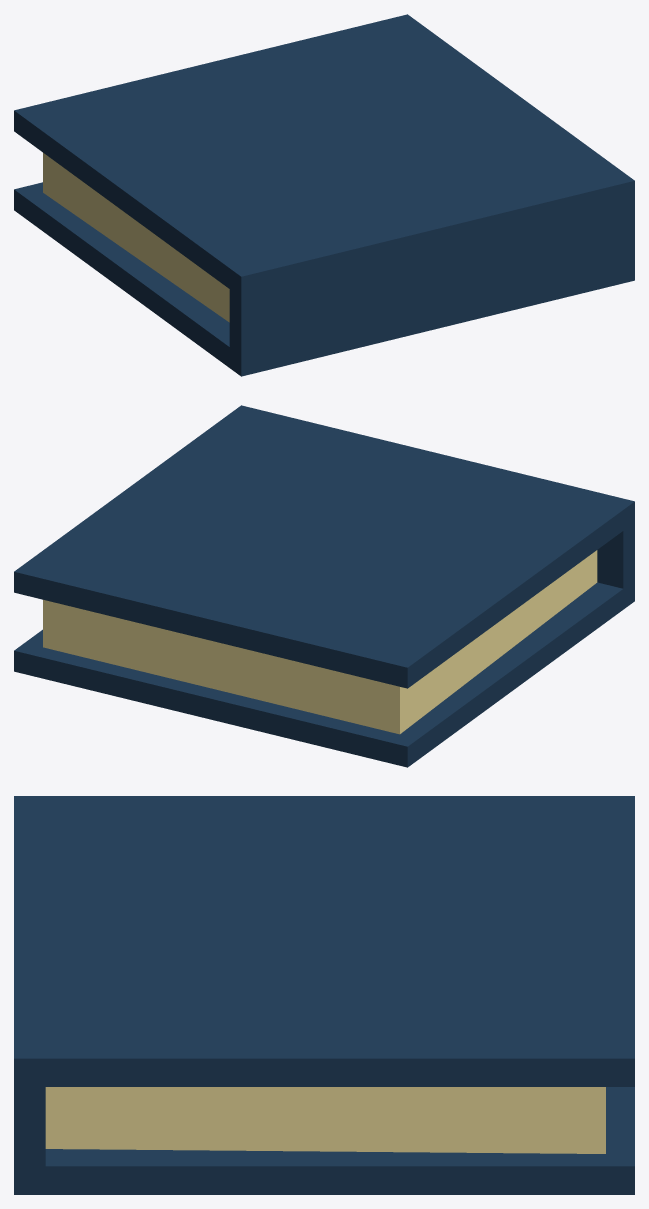
File: book-navy.fbx
3 views of the same model, one above another, from view 1: azimuth 30°, elevation 25°; view 2: azimuth 150°, elevation 25°; view 3: azimuth 270°, elevation 25° (orthographic). The views are drawn at different scales.
Parts seen in each view (by area): view 1: Cube.001; view 2: Cube.001; view 3: Cube.001.
Part boxes in pixels (x1=…): Cube.001: x1=14, y1=14, x2=634, y2=376; Cube.001: x1=14, y1=405, x2=634, y2=767; Cube.001: x1=14, y1=796, x2=634, y2=1194.
Size of the model in its own units: 200 by 48.48 by 200.
